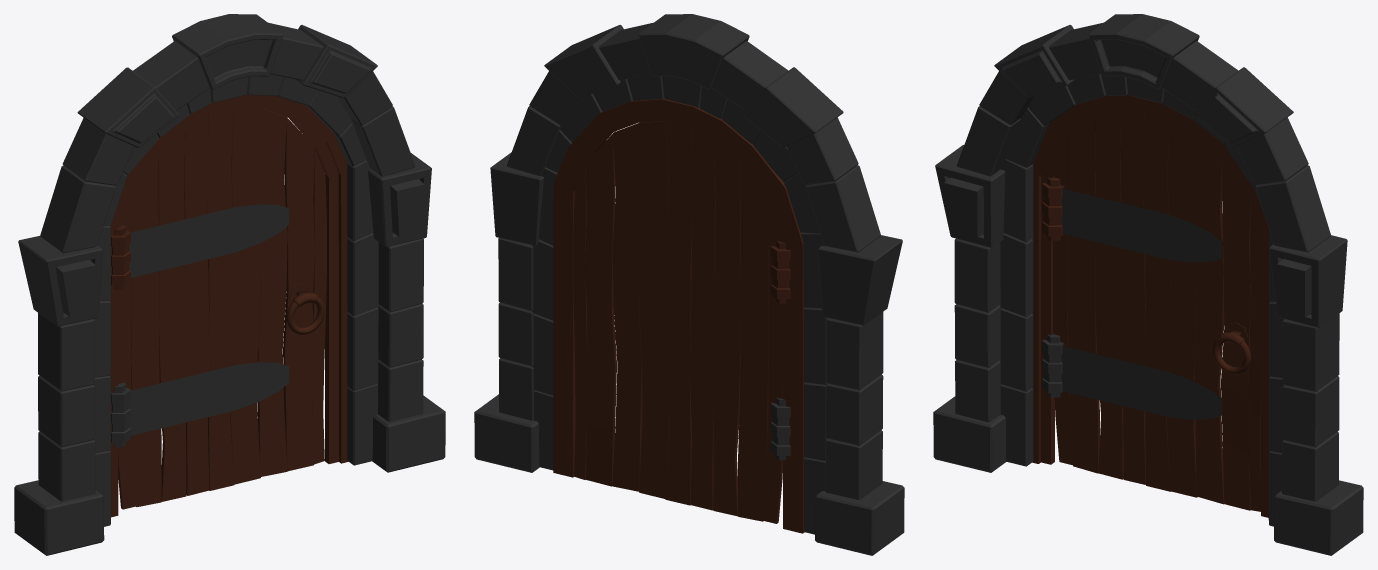
The model's file is MedivalDoor10hrs.glb.
The picture shows the model from 3 angles, left to right: view 1: azimuth 30°, elevation 25°; view 2: azimuth 150°, elevation 25°; view 3: azimuth 330°, elevation 25°; orthographic projection.
Visible parts, largest first — view 1: StoneDoorWay, WoodenDoor; view 2: StoneDoorWay, WoodenDoor; view 3: StoneDoorWay, WoodenDoor.
Boxes of the visible parts, x1=… form: StoneDoorWay: x1=14, y1=14, x2=445, y2=555; WoodenDoor: x1=111, y1=106, x2=326, y2=509; StoneDoorWay: x1=474, y1=14, x2=904, y2=555; WoodenDoor: x1=573, y1=120, x2=790, y2=523; StoneDoorWay: x1=933, y1=14, x2=1363, y2=555; WoodenDoor: x1=1042, y1=108, x2=1260, y2=511.
Size of the model in its own units: 343 by 385 by 51.67.
